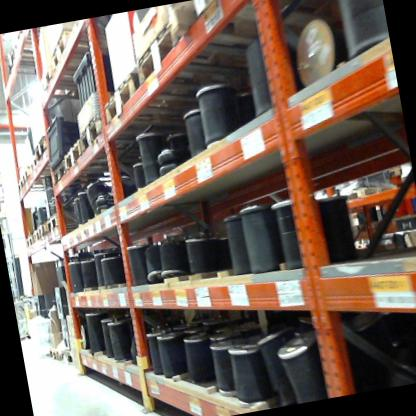pallet: (125, 4, 296, 118), (98, 60, 232, 143), (59, 121, 173, 181), (76, 104, 168, 166), (3, 30, 83, 87), (30, 55, 104, 106), (46, 24, 118, 73), (49, 152, 134, 189), (43, 206, 97, 238), (27, 132, 62, 162), (61, 344, 82, 367), (34, 217, 50, 239), (50, 347, 66, 365), (20, 161, 32, 183), (28, 151, 41, 171), (14, 172, 26, 193), (30, 222, 42, 243), (23, 231, 34, 249)
